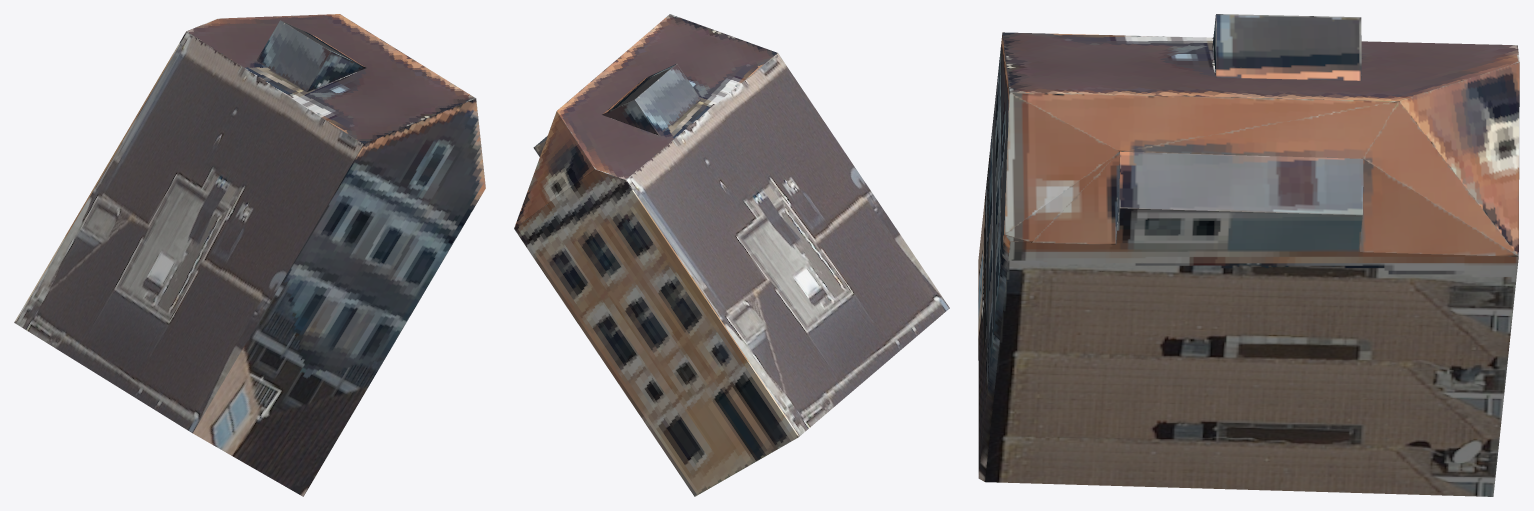
3 views of the same model, side by side, from view 1: azimuth 30°, elevation 25°; view 2: azimuth 150°, elevation 25°; view 3: azimuth 270°, elevation 25° (orthographic). The views are drawn at different scales.
Parts seen in each view (by area): view 1: BAG_0599100000688730 (×4); view 2: BAG_0599100000688730 (×6); view 3: BAG_0599100000688730 (×5).
Part boxes in pixels (x1,y1,x2,y2): BAG_0599100000688730 (×4): (14, 14, 485, 496); BAG_0599100000688730 (×6): (514, 14, 949, 496); BAG_0599100000688730 (×5): (978, 14, 1519, 496).
Bounding box in the file's own units: 13.86 × 14.87 × 12.92.
1 material, 1 textured.
